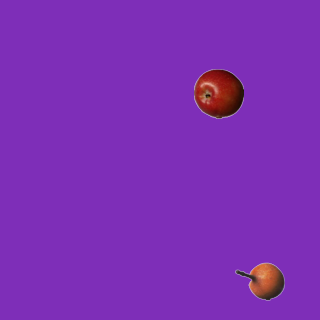Apple Braeburn: (193, 68, 243, 118)
Granadilla: (234, 256, 284, 306)
